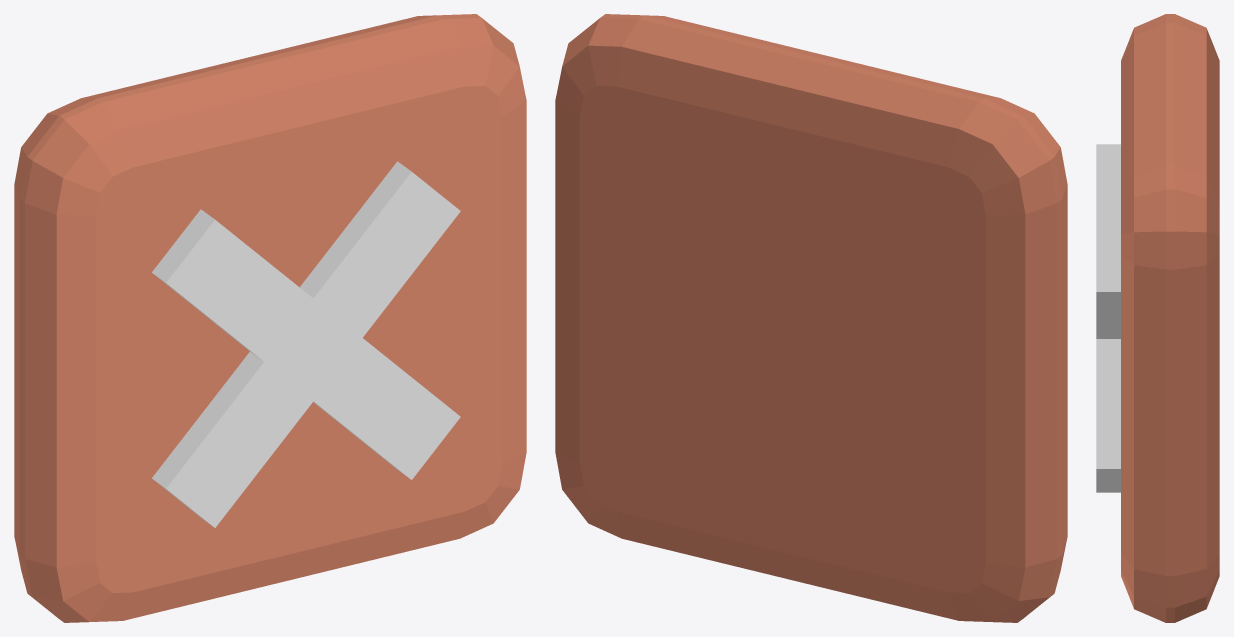
Rendered from close-button.glb.
3 renders of one model, left to right at view 1: azimuth 30°, elevation 25°; view 2: azimuth 150°, elevation 25°; view 3: azimuth 270°, elevation 25°, orthographic. The views are drawn at different scales.
Visible parts, largest first — view 1: button; view 2: button; view 3: button.
Part boxes in pixels (x1,y1,x2,y2): button: [14, 14, 526, 622]; button: [555, 14, 1067, 622]; button: [1096, 14, 1219, 622].
Bounding box in the file's own units: 0.03 × 0.03 × 0.0075.
